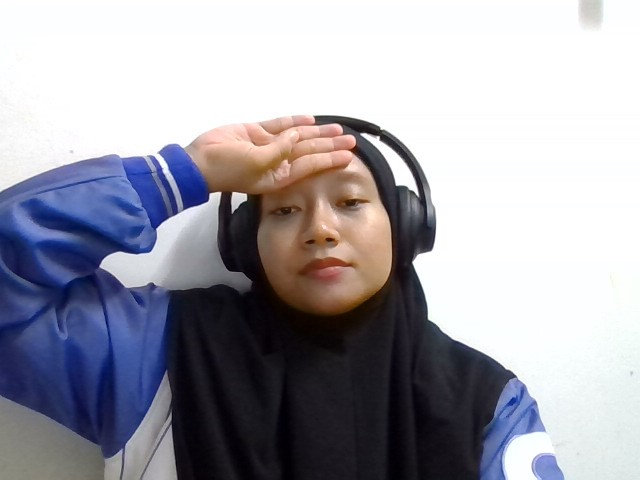Demam: (209, 114, 373, 218)
